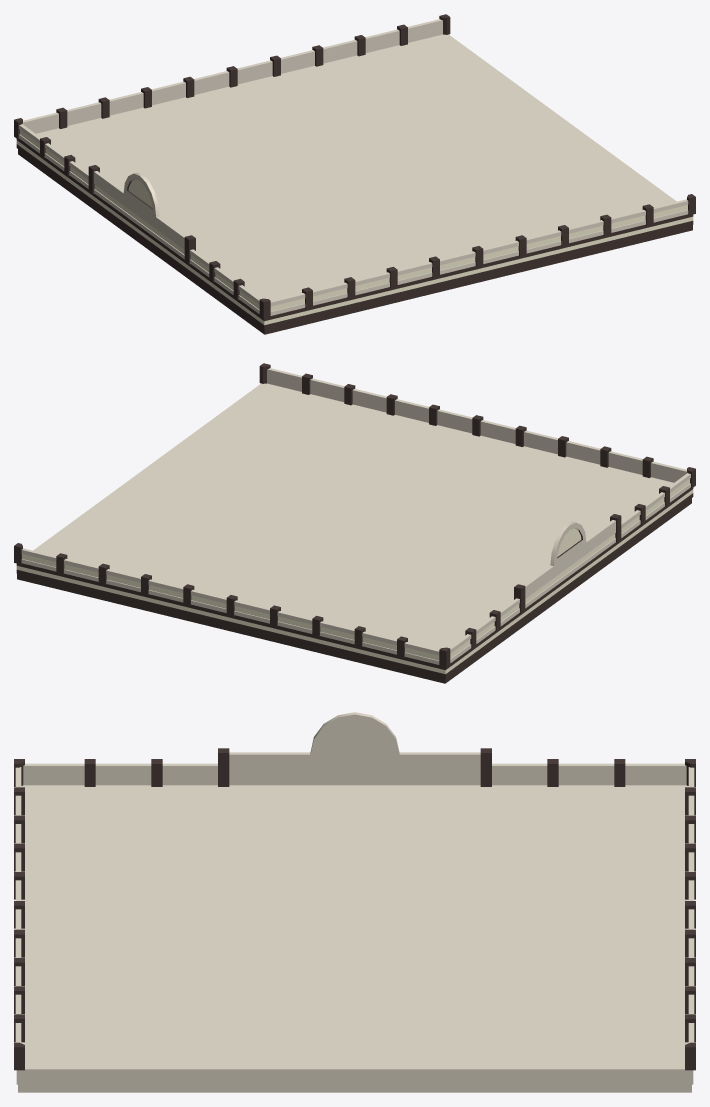
File: BuildingBig2_3.fbx
3 renders of one model, top to bottom at view 1: azimuth 30°, elevation 25°; view 2: azimuth 150°, elevation 25°; view 3: azimuth 270°, elevation 25°, orthographic. The views are drawn at different scales.
Visible parts, largest first — view 1: BuildingBig2_3; view 2: BuildingBig2_3; view 3: BuildingBig2_3.
Boxes of the visible parts, x1,y1,x2,y2 form: BuildingBig2_3: (14,14,695,334); BuildingBig2_3: (14,363,695,683); BuildingBig2_3: (14,712,695,1092).
Bounding box in the file's own units: 6130 × 935 × 6130.
